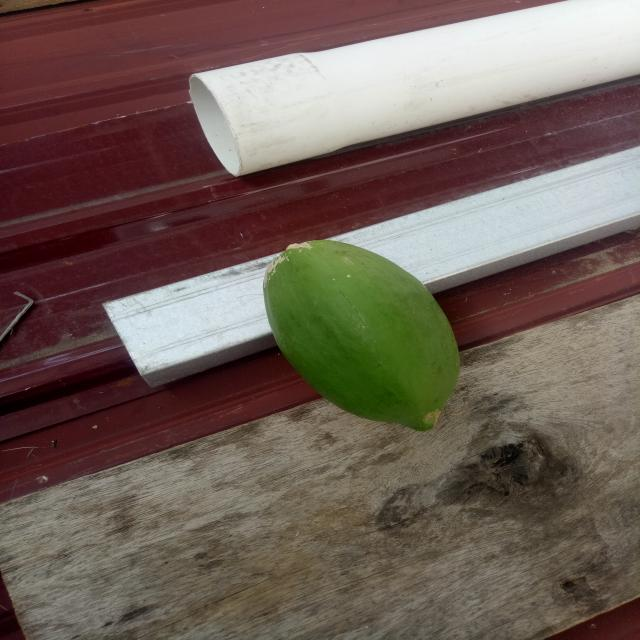Pepaya unrippen: (266, 234, 467, 436)
